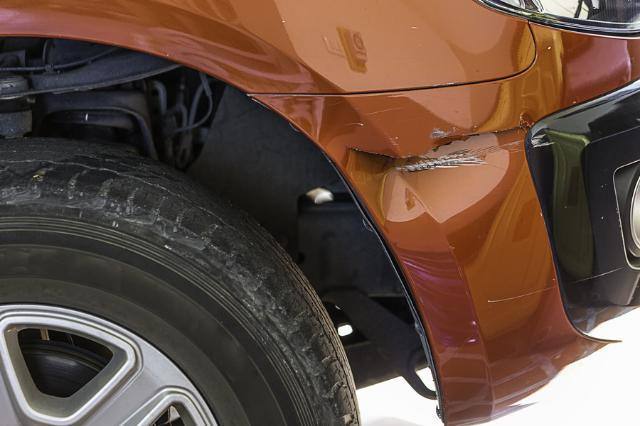Bumper: (335, 92, 624, 389)
